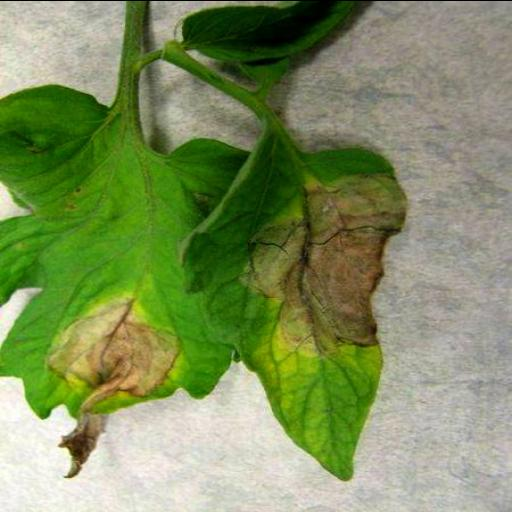Late Blight: (0, 85, 231, 477), (174, 145, 408, 483)
